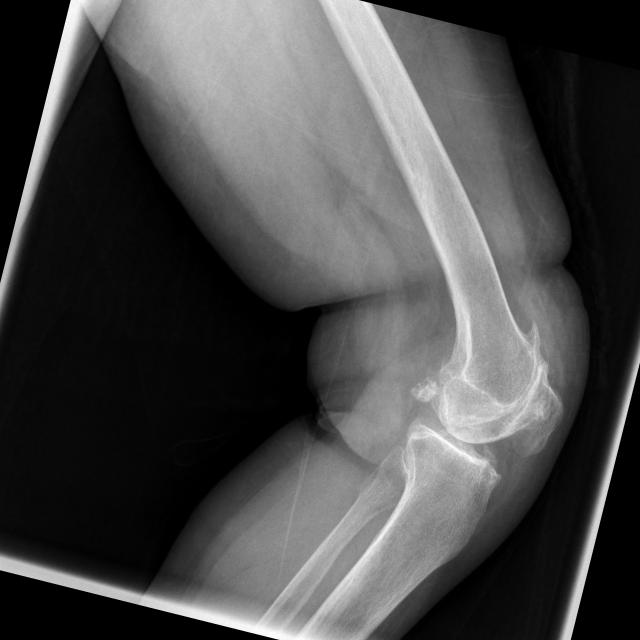Knee: (382, 328, 576, 532)
